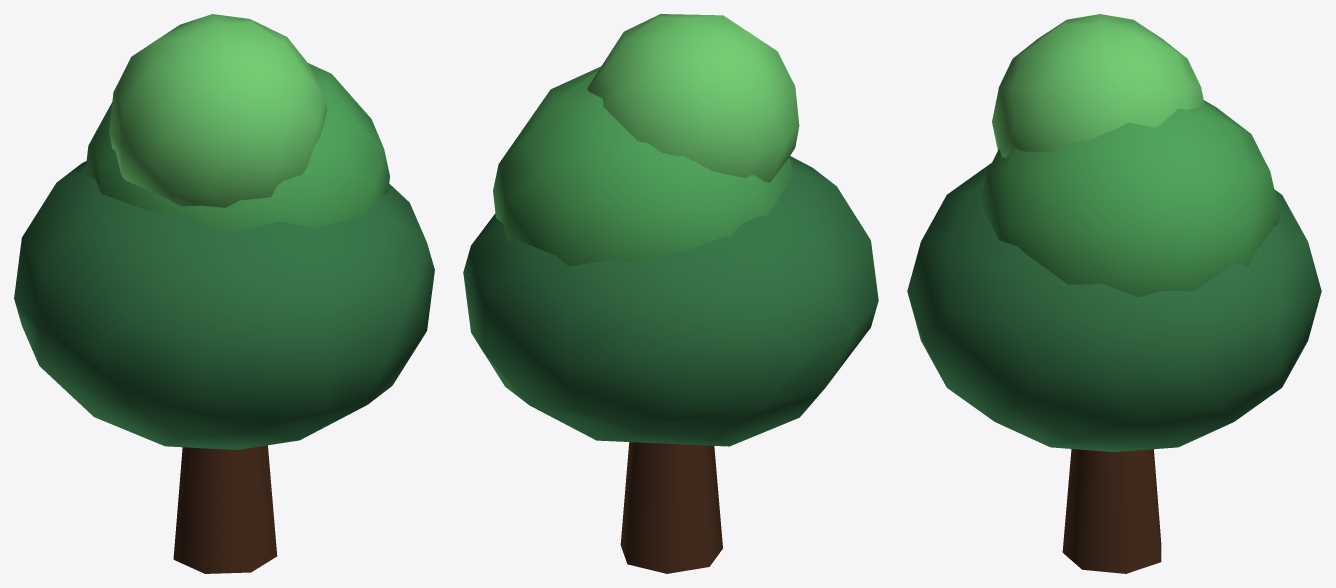
Rendered from tree_oak.glb.
The picture shows the model from 3 angles, left to right: view 1: azimuth 30°, elevation 25°; view 2: azimuth 150°, elevation 25°; view 3: azimuth 270°, elevation 25°; orthographic projection. The views are drawn at different scales.
Visible parts, largest first — view 1: Kenney_Tree_Oak; view 2: Kenney_Tree_Oak; view 3: Kenney_Tree_Oak.
Part boxes in pixels (x1,y1,x2,y2): Kenney_Tree_Oak: (14,14,434,573); Kenney_Tree_Oak: (463,14,878,573); Kenney_Tree_Oak: (907,14,1321,573).
Size of the model in its own units: 2.88 by 4 by 2.88.
